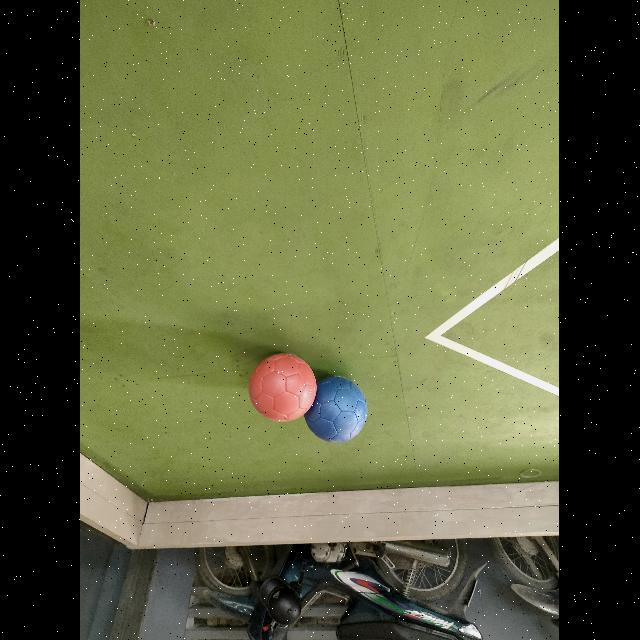B: (305, 377, 368, 443)
R: (249, 354, 318, 421)
